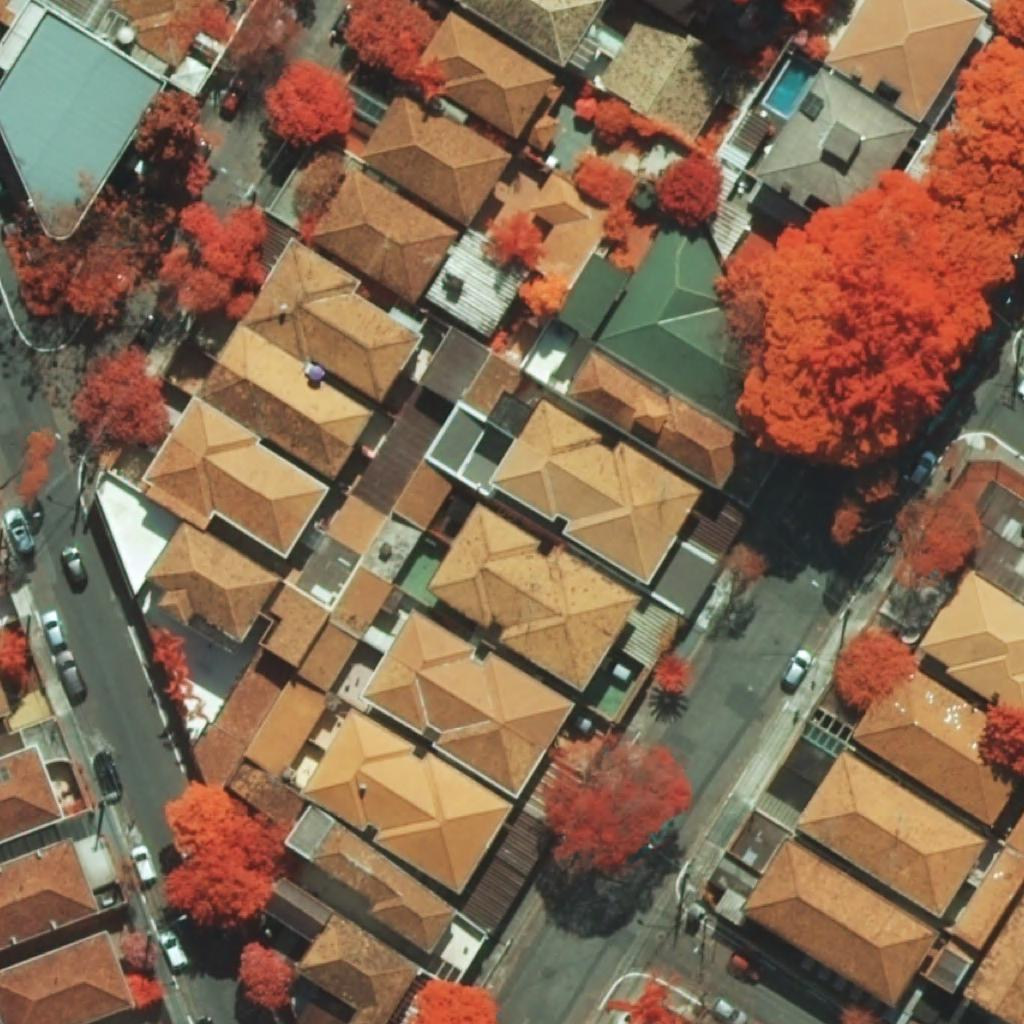pool: (764, 57, 818, 117)
